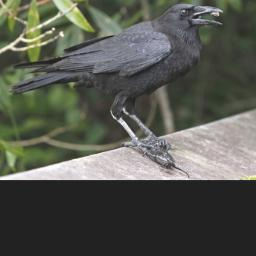Crow: (7, 2, 224, 158)
